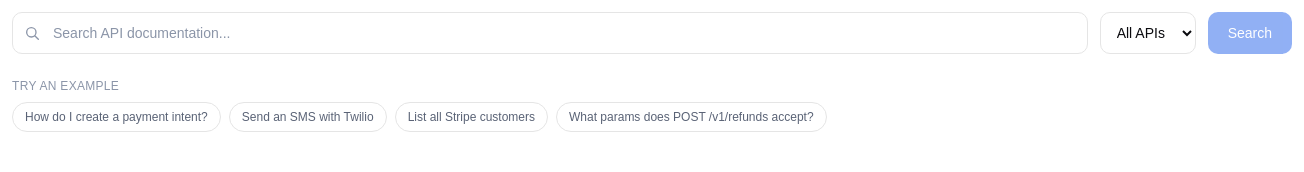
Test: SearchDemo › shows error on fetch failure
The image size is (1304, 172).
In the field with placeholder "Search API documentation...": (550, 33) [12,12,1088,54], type "test"
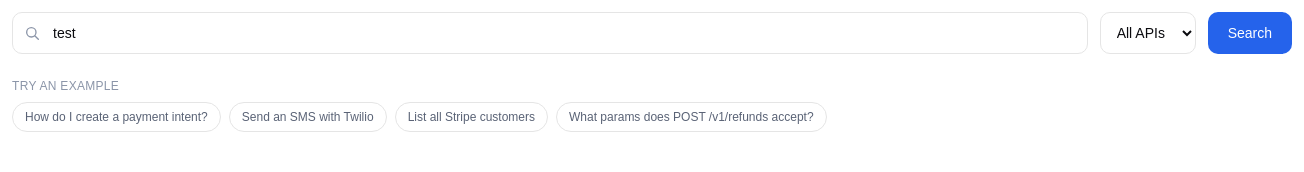
Click the button "Search": (1250, 33) [1208,12,1292,54]
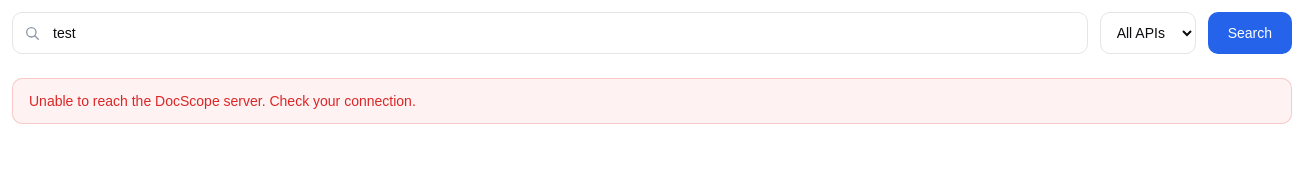
Now the text "Unable to reach the DocScope server. Check your connection." is shown, box [12,78,1292,124]
